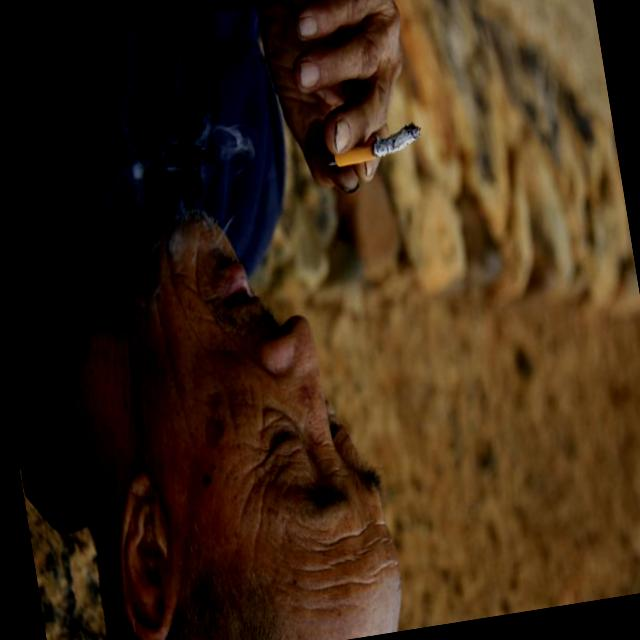cigarette: (290, 95, 444, 202)
